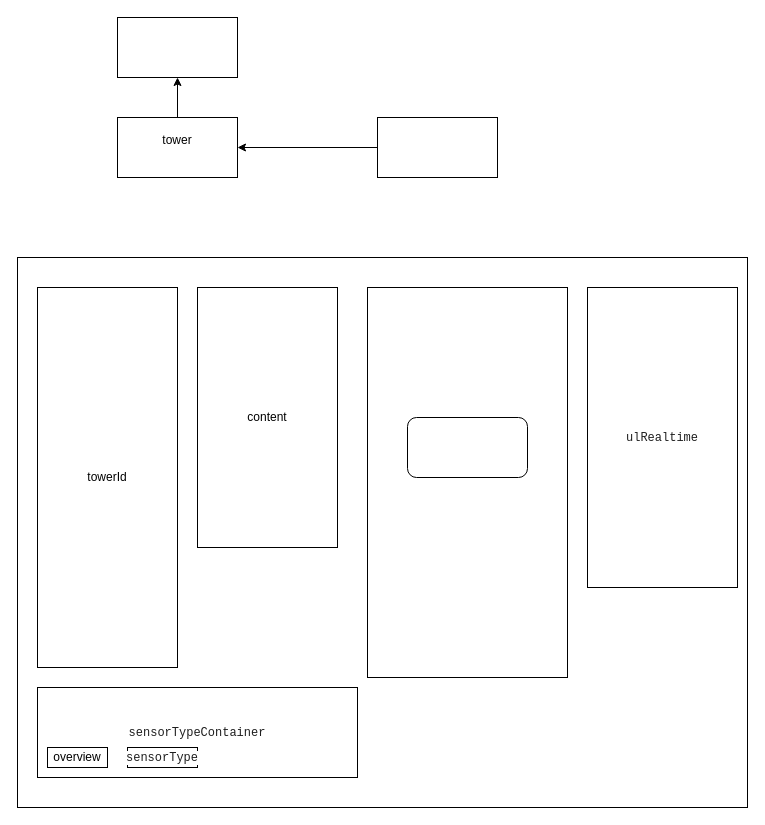
This 765x825 diagram has some shape labels left out. Each missing label, with the centre of its shape:
center: point 177,47
Collector: point 437,147
markerList: point 467,447
